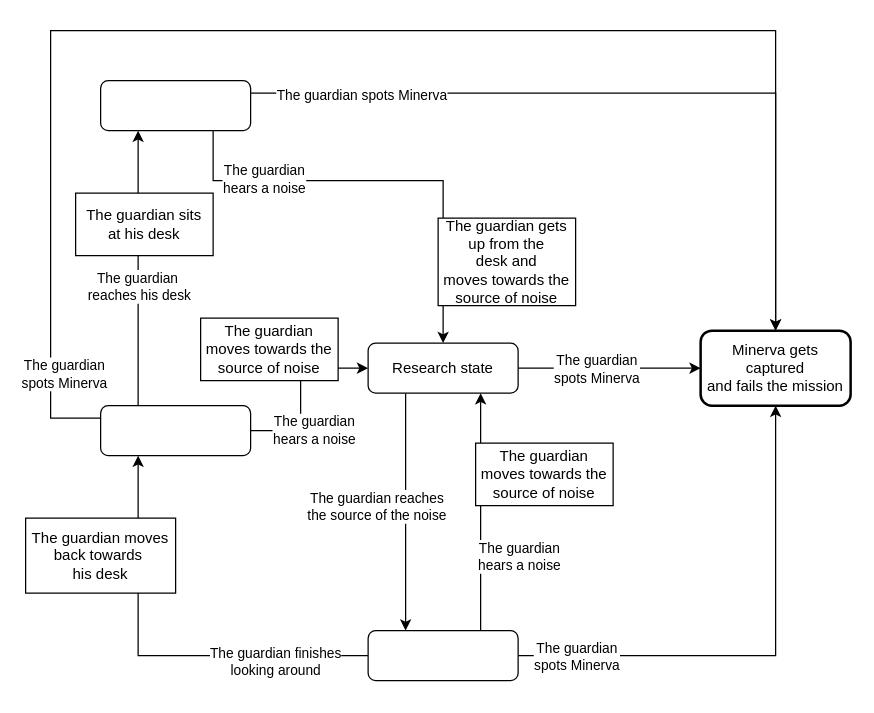
Image size: 874x713. Some labels were removed from this diagram. The centre of each missing label's shape, as x and y in pixels:
Idle state: the point at 175,105
Return state: the point at 175,430
Scouting state: the point at 442,655
